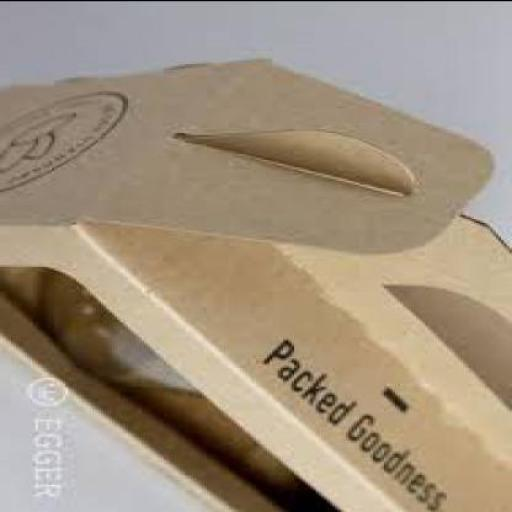cardboard: (2, 53, 511, 511)
